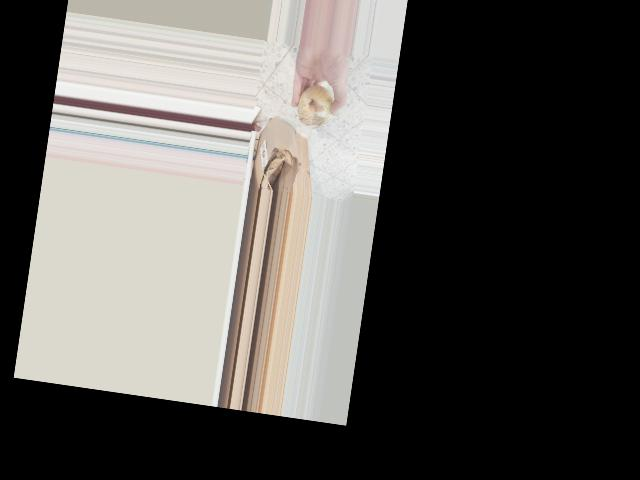onion: (295, 78, 341, 130)
